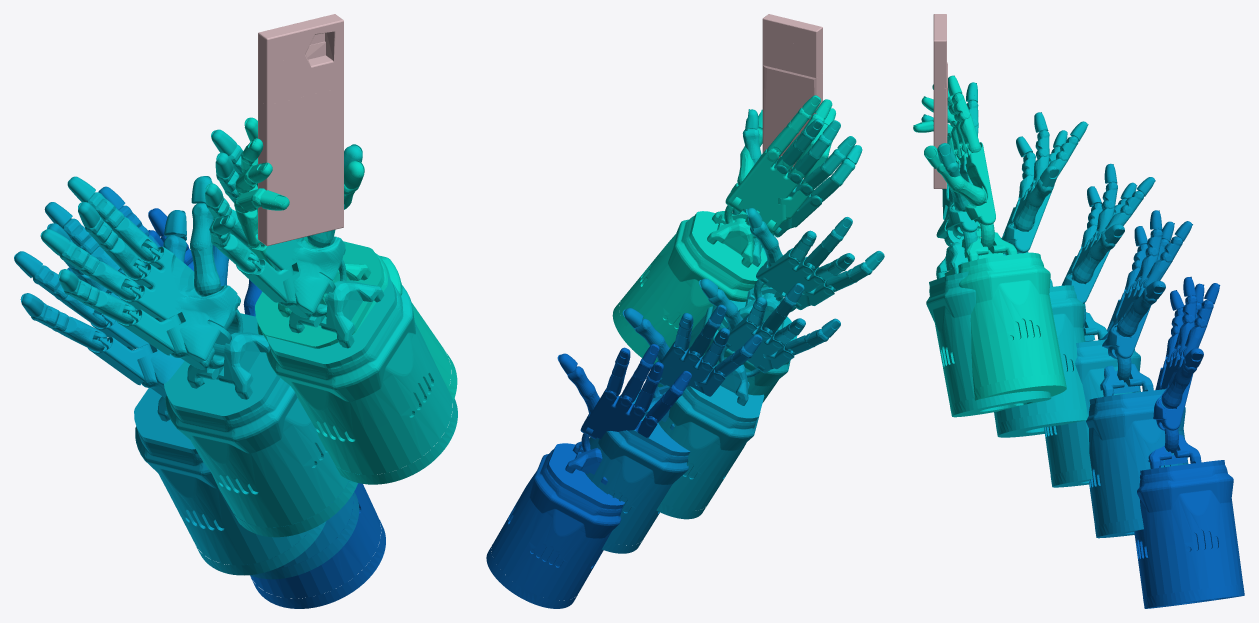
The picture shows the model from 3 angles, left to right: view 1: azimuth 30°, elevation 25°; view 2: azimuth 150°, elevation 25°; view 3: azimuth 270°, elevation 25°; orthographic projection. The views are drawn at different scales.
Parts seen in each view (by area): view 1: world, decomposed.obj; view 2: world, decomposed.obj; view 3: world, decomposed.obj.
Boxes of the visible parts, x1,y1,x2,y2 form: world: (14, 117, 457, 608); decomposed.obj: (258, 14, 343, 246); world: (486, 95, 884, 608); decomposed.obj: (762, 14, 822, 169); world: (913, 75, 1244, 608); decomposed.obj: (933, 14, 947, 188).
Bounding box in the file's own units: 0.482 × 0.7769 × 0.4427.
